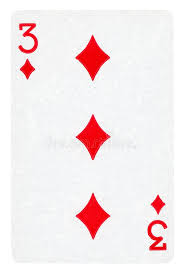three of dimaonds: (11, 12, 174, 262)
